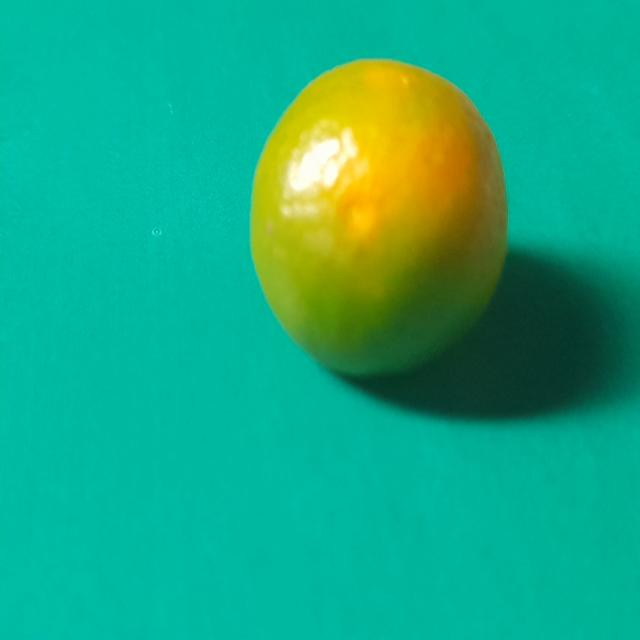greening: (248, 52, 514, 390)
